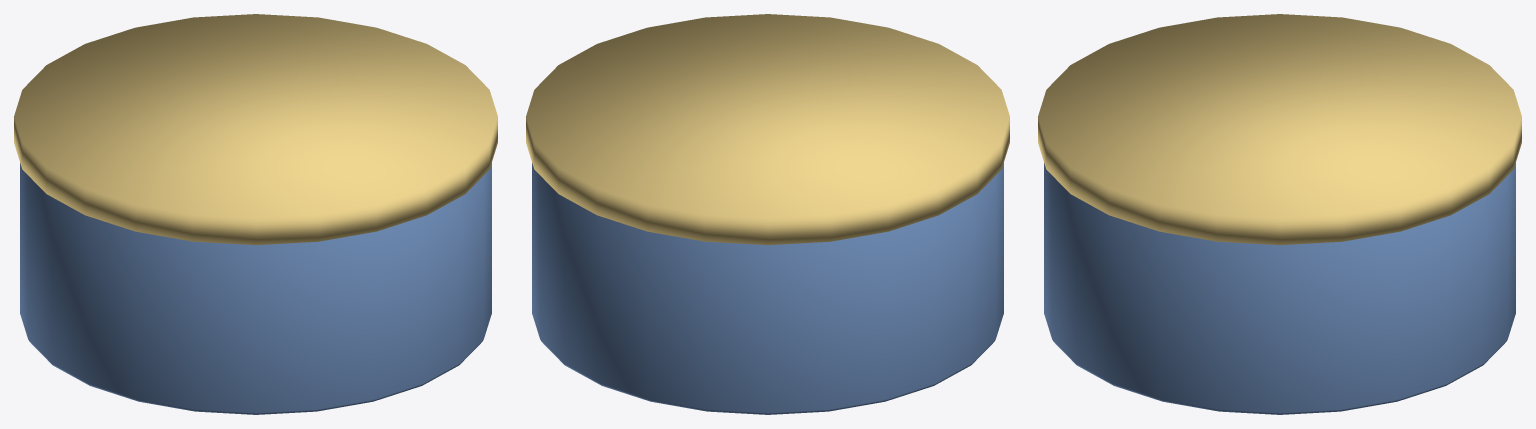
The model's file is v2_cookie_tin.fbx.
3 renders of one model, left to right at view 1: azimuth 30°, elevation 25°; view 2: azimuth 150°, elevation 25°; view 3: azimuth 270°, elevation 25°, orthographic.
Parts seen in each view (by area): view 1: TinLid, Tin; view 2: TinLid, Tin; view 3: TinLid, Tin.
Part boxes in pixels (<box>): TinLid: <box>14,14,497,245</box>; Tin: <box>20,163,491,414</box>; TinLid: <box>526,14,1009,245</box>; Tin: <box>532,163,1003,414</box>; TinLid: <box>1038,14,1521,245</box>; Tin: <box>1044,163,1515,414</box>.
Bounding box in the file's own units: 0.246 × 0.1125 × 0.246.
